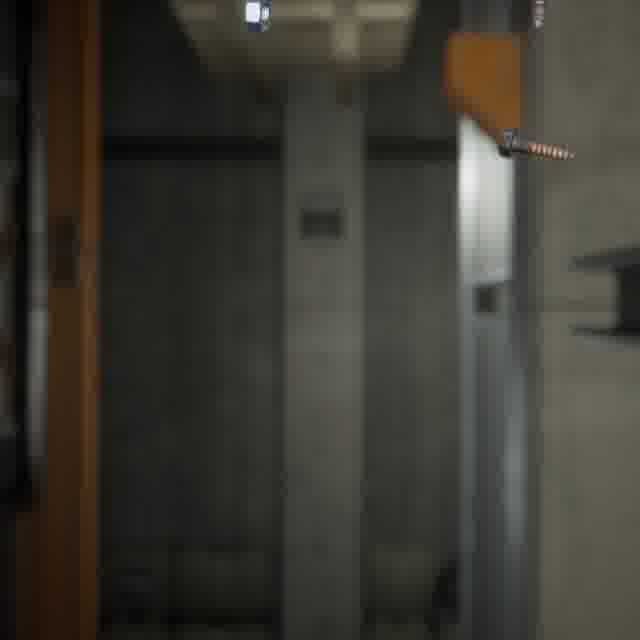bolt: (495, 122, 580, 166)
nut: (240, 0, 274, 36)
